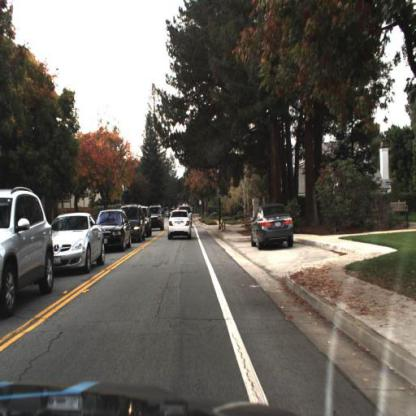car: (1, 187, 56, 322), (49, 211, 110, 272), (54, 212, 106, 277), (250, 203, 298, 250), (95, 207, 134, 253), (123, 205, 149, 249), (103, 209, 131, 248), (168, 211, 192, 243), (126, 207, 147, 243), (147, 205, 166, 234), (151, 207, 164, 232), (145, 206, 154, 240)
